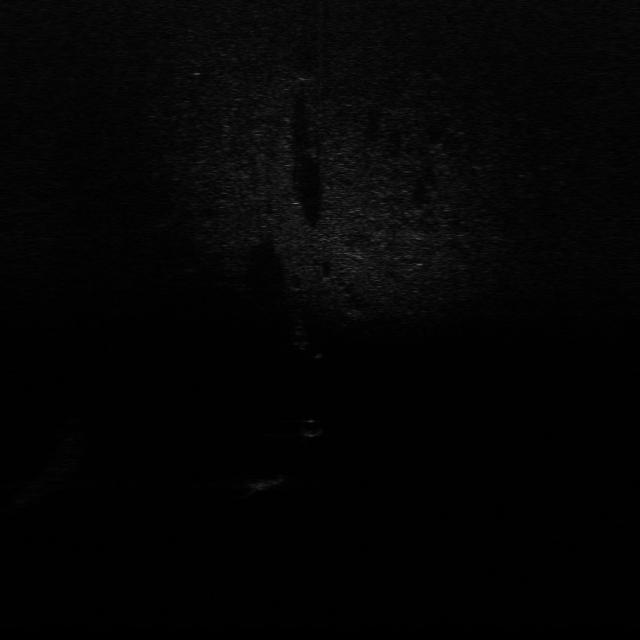ball: (301, 414, 327, 438)
human body: (287, 313, 327, 363)
square cage: (234, 472, 298, 495)
